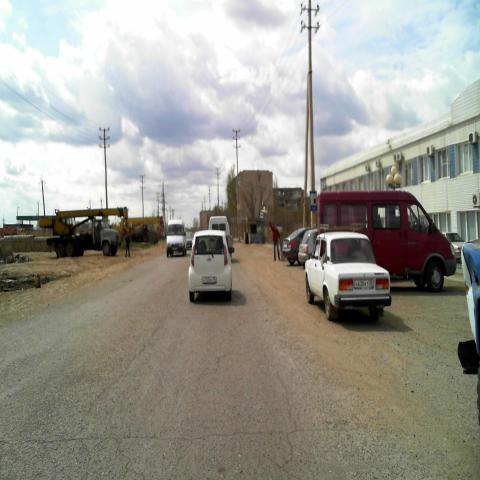7_3: (310, 189, 317, 211)
